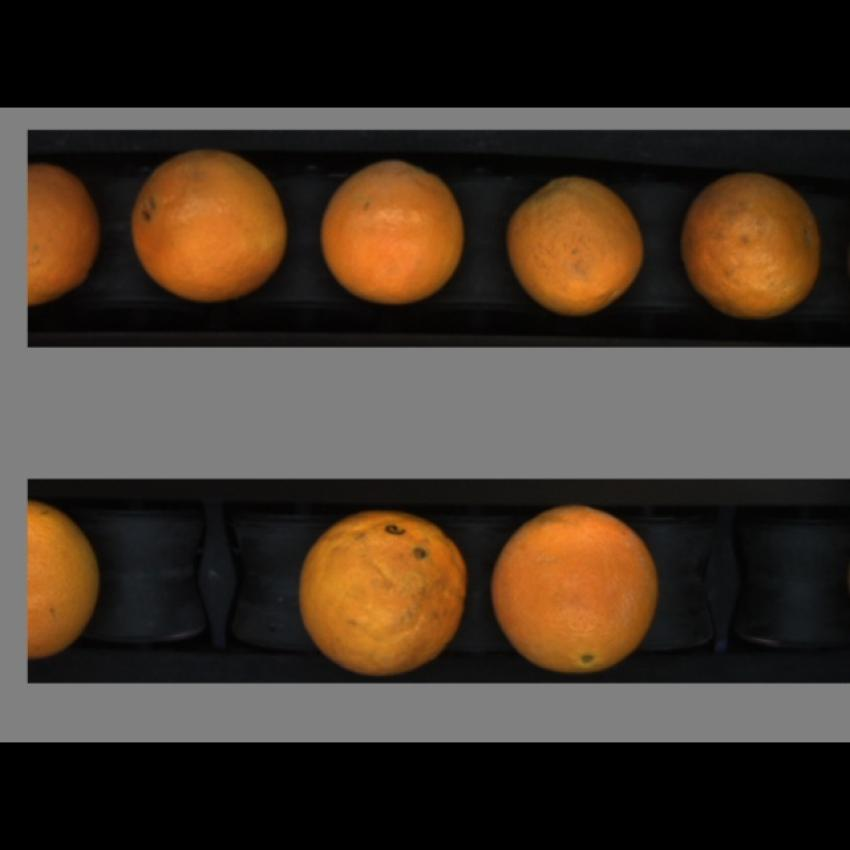Buen estado: (128, 149, 292, 304), (314, 161, 474, 306), (26, 498, 107, 666), (28, 158, 103, 313)
Mal estado: (288, 508, 477, 676), (489, 507, 666, 675), (680, 168, 821, 325), (504, 174, 641, 326)
